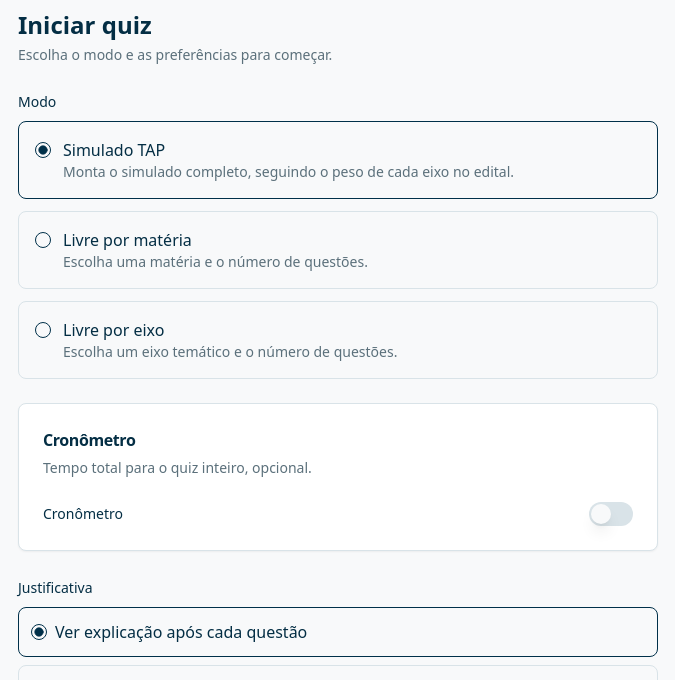
Test case: StartQuizPage › modo livre por matéria mostra o seletor de matéria; livre por eixo mostra o de eixo
Click the text "Livre por matéria" at (127, 240), box top-left (63, 229), bottom-right (192, 251)
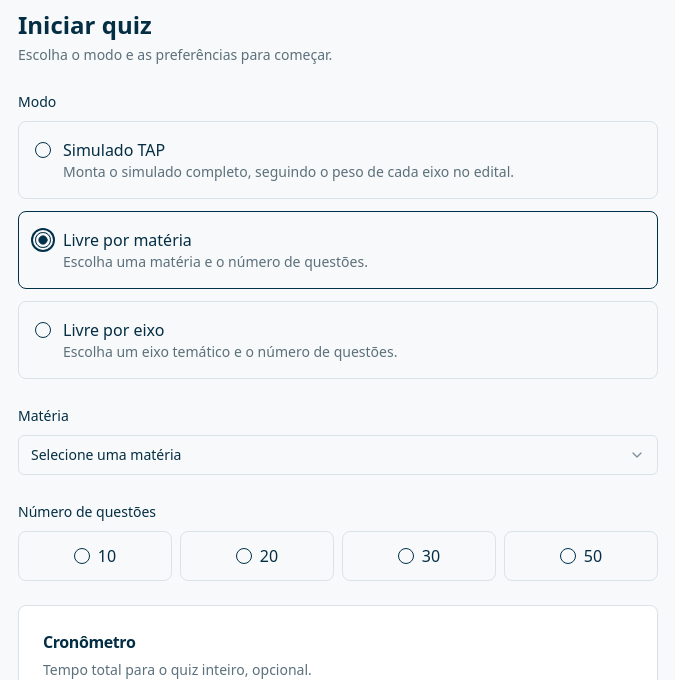
Expected: the dropdown labelled "matéria" is shown, top-left (18, 435), bottom-right (658, 475)
Click the text "Livre por eixo" at (114, 330), box top-left (63, 319), bottom-right (164, 341)
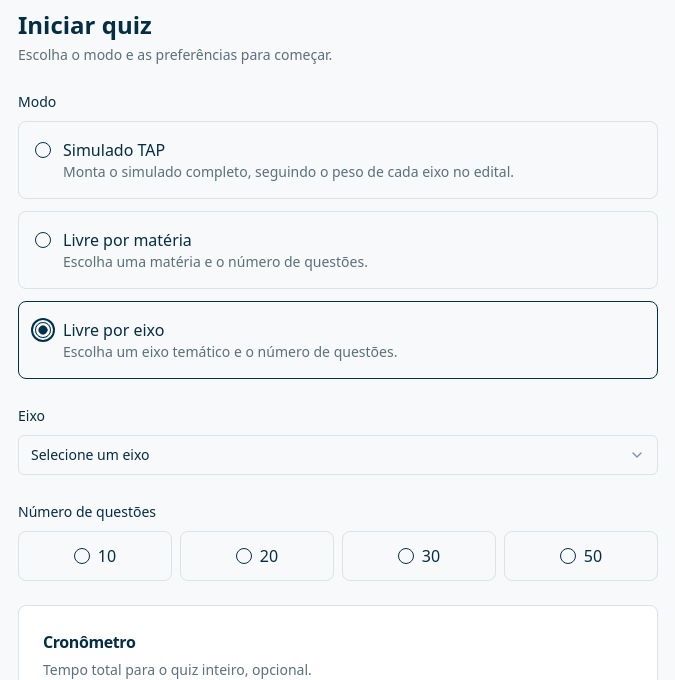
Expected: the dropdown labelled "eixo" is shown, top-left (18, 435), bottom-right (658, 475)
